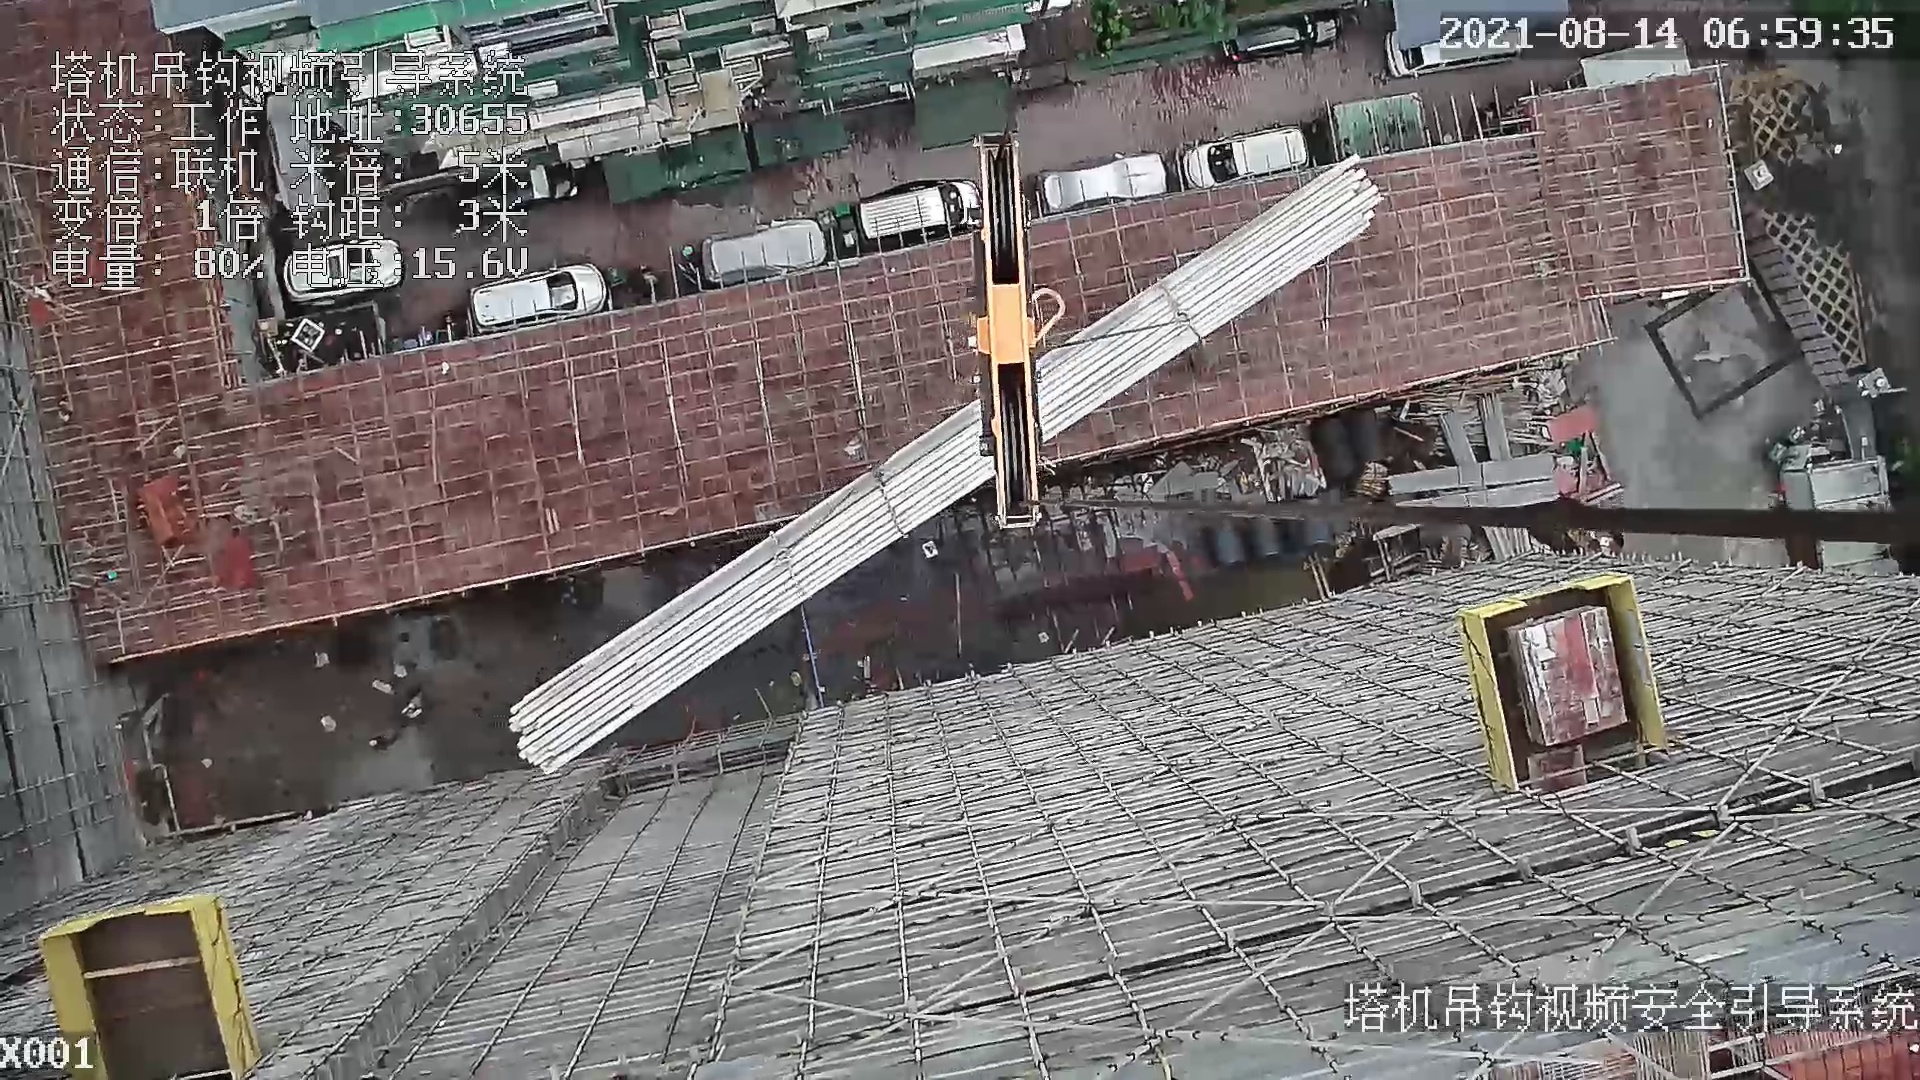board: (1505, 607, 1631, 746)
hook: (960, 127, 1069, 541)
rebar: (509, 153, 1381, 771), (1390, 454, 1557, 495), (1394, 479, 1555, 509), (1478, 393, 1513, 460), (1437, 418, 1477, 465)
wood: (1356, 463, 1386, 498)
